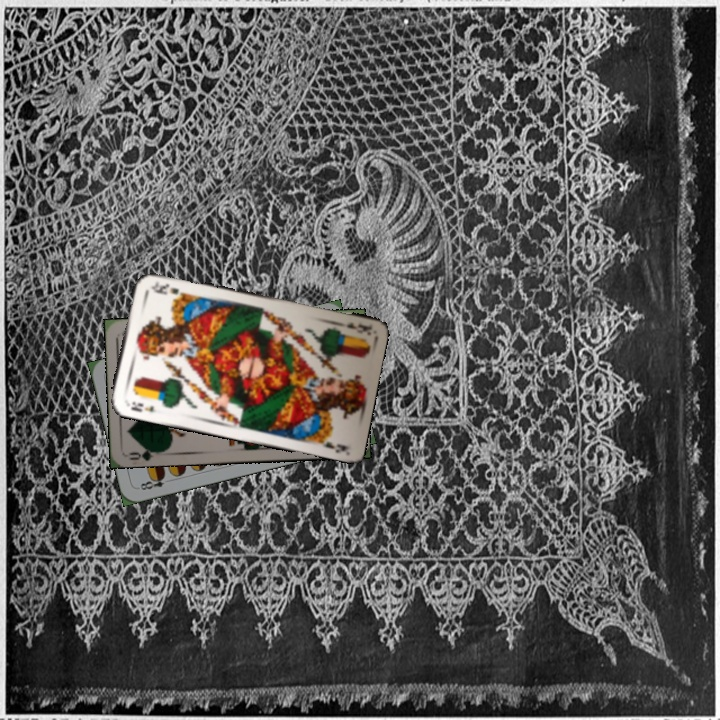E8: (134, 471, 168, 493)
EK: (342, 319, 374, 337), (127, 397, 156, 415)
GO: (125, 442, 165, 462)
